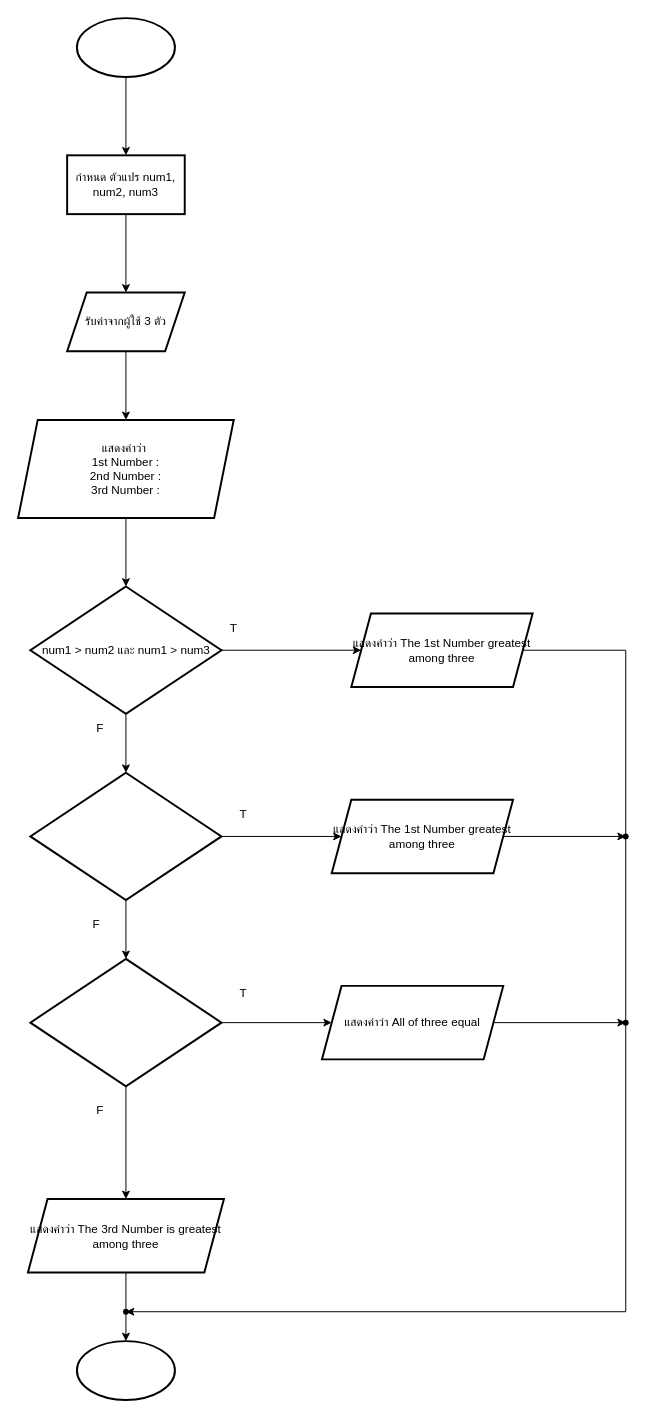
Some shapes in this 653 by 1417 pixel diagram are drawn without their labels. The shapes that lost their labels are listed below. From the top down, each one's box as (x1, y1, x2, y2) in pixels, then its label:
(75, 17, 175, 77): start
(29, 771, 222, 901): num2 > num1 และ num2 > num3
(29, 957, 222, 1087): num1 = num1=2 และ num1 = num3
(75, 1340, 175, 1400): end
